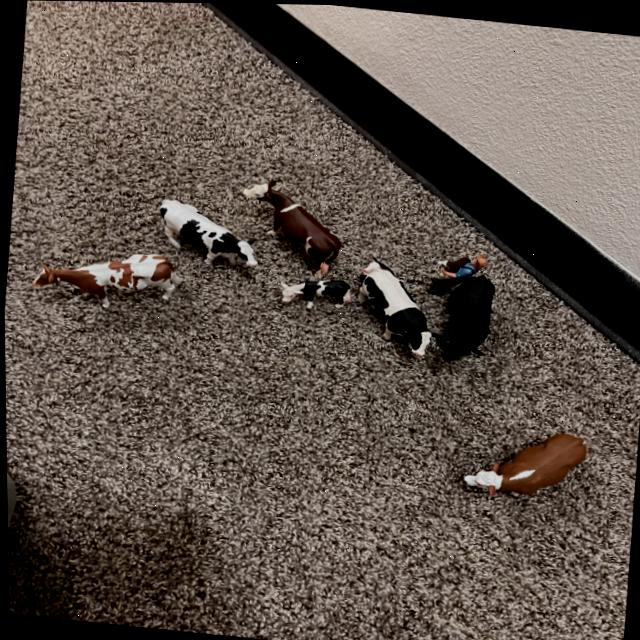cow: (234, 168, 348, 277), (461, 423, 593, 516), (144, 190, 263, 289), (346, 259, 441, 366), (29, 249, 182, 315), (431, 267, 500, 367), (279, 275, 351, 311), (360, 254, 397, 287), (438, 247, 470, 276)
person: (419, 246, 490, 297)
